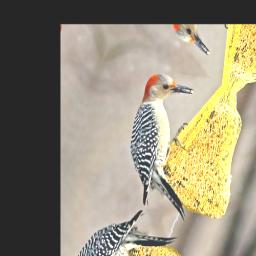Woodpecker: (94, 55, 236, 227)
